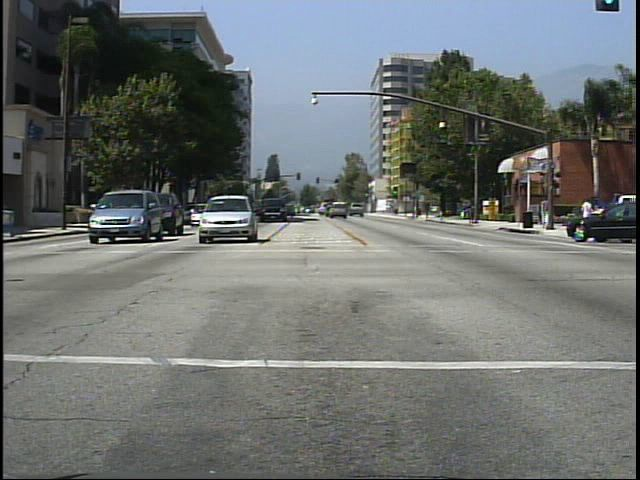person: (579, 193, 602, 237), (538, 193, 551, 230)
